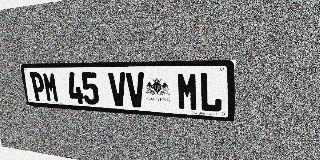4: (66, 72, 84, 104)
5: (81, 72, 100, 105)
L: (199, 72, 223, 113)
M: (177, 72, 199, 111), (42, 72, 60, 102)
P: (29, 72, 46, 102)
V: (126, 72, 146, 108), (108, 72, 128, 107)
